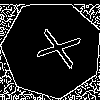X: (26, 24, 81, 70)
